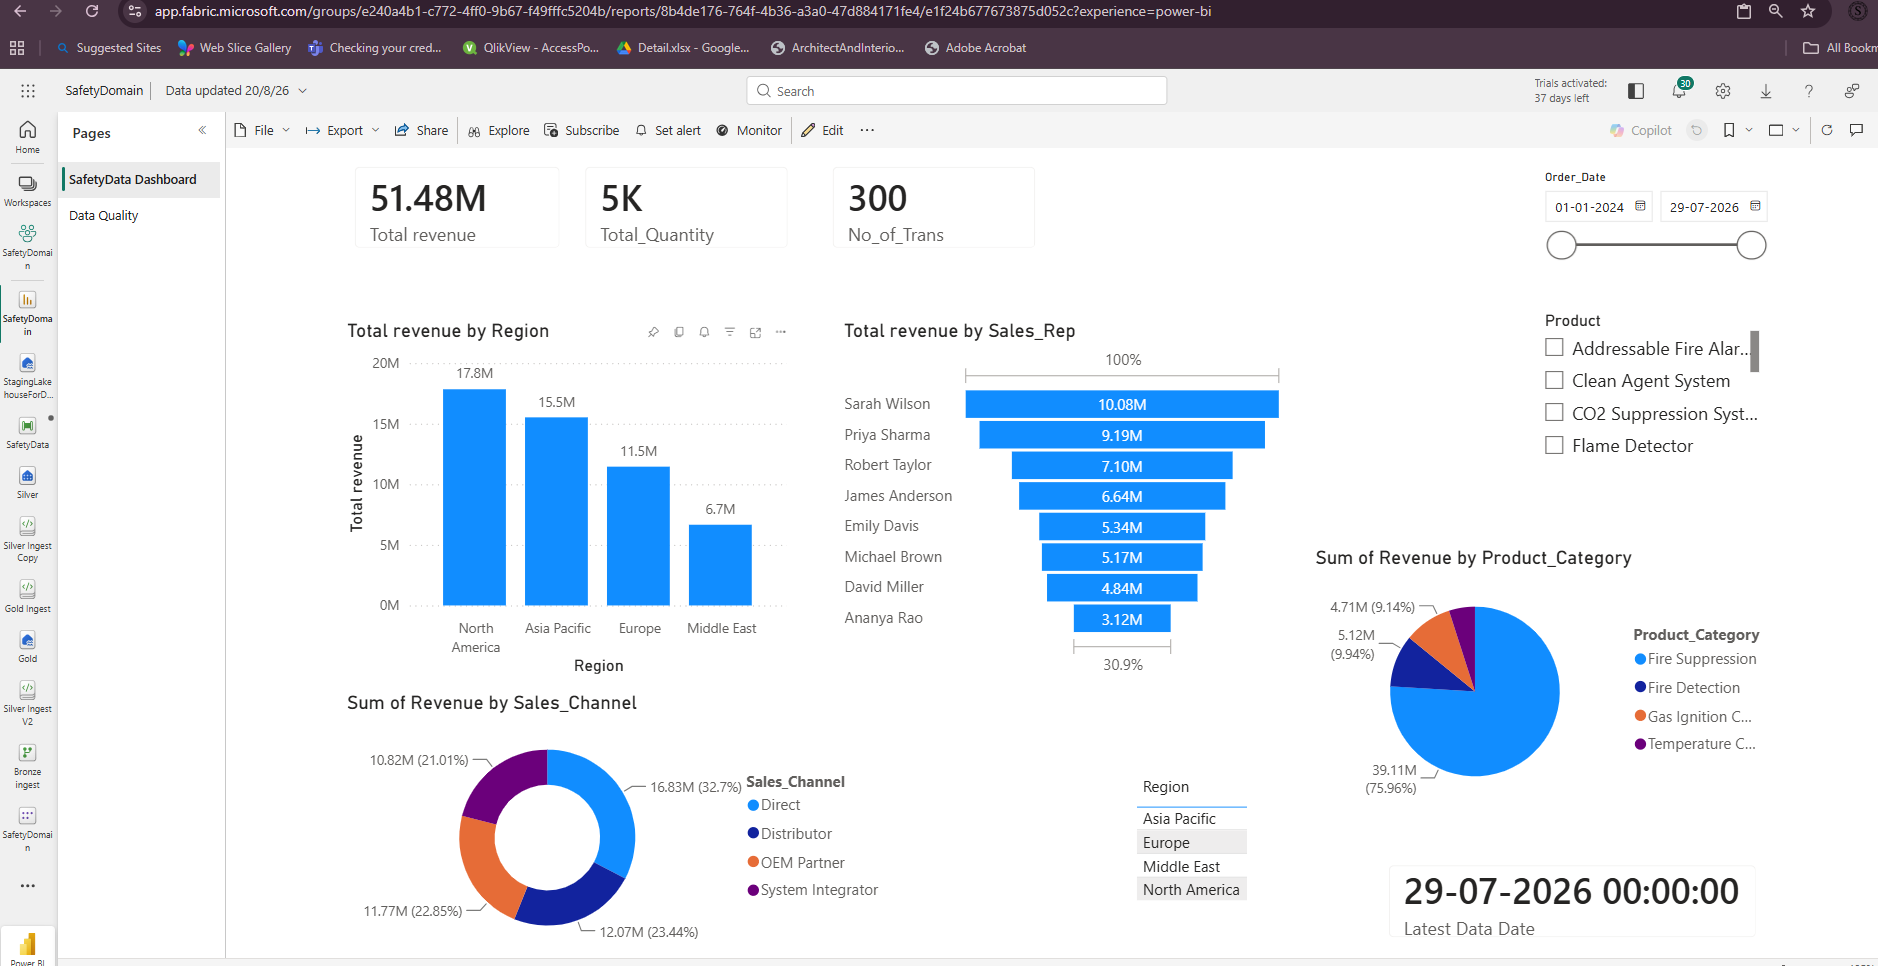

The page's visual inventory and layout, read from the dashboard file:
{"tool":"powerbi","page":{"name":"SafetyData Dashboard","canvas":[1280,720],"ordinal":0},"visuals":[{"type":"cardVisual","fields":{"Data":["SafetyData.Total revenue"]},"box":[0,0,216.7,106.6],"z":0},{"type":"slicer","fields":{"Values":["SafetyData.Product"]},"box":[1061,139.3,208.1,149.6],"z":1000},{"type":"cardVisual","fields":{"Data":["SafetyData.Total_Quantity"]},"box":[204.6,0,215,106.6],"z":2000},{"type":"cardVisual","fields":{"Data":["SafetyData.No_of_Trans"]},"box":[424.8,0,215,106.6],"z":3000},{"type":"columnChart","fields":{"Category":["Dim_Region.Region"],"Y":["SafetyData.Total revenue"]},"box":[5.2,153.1,400.7,319.9],"z":4000},{"type":"pieChart","fields":{"Category":["SafetyData.Product_Category"],"Y":["Sum(SafetyData.Revenue)"]},"box":[865,354.3,414.4,237.3],"z":5000},{"type":"donutChart","fields":{"Category":["SafetyData.Sales_Channel"],"Y":["Sum(SafetyData.Revenue)"]},"box":[5.2,483.2,491.8,237.3],"z":6000},{"type":"funnel","fields":{"Y":["SafetyData.Total revenue"],"Category":["SafetyData.Sales_Rep"]},"box":[446.5,153,401,320],"z":7000},{"type":"slicer","fields":{"Values":["SafetyData.Order_Date"]},"box":[1061,13.8,218.4,92.9],"z":8000},{"type":"cardVisual","fields":{"Data":["SafetyData.Latest Data Date"]},"box":[919.1,620.9,360.4,98.3],"z":9000},{"type":"tableEx","fields":{"Values":["Dim_Region.Region"]},"box":[706.1,552.1,142.5,137.6],"z":9001}]}

Visuals, with their boxes on the page's 1280x720 design canvas (x1, y1, x2, y2). These are canvas units, not pixel positions in the 1878x966 screenshot, which may show the page scaled, cropped or inside an application window:
cardVisual - SafetyData.Total revenue: <box>0,0,217,107</box>
slicer - SafetyData.Product: <box>1061,139,1269,289</box>
cardVisual - SafetyData.Total_Quantity: <box>205,0,420,107</box>
cardVisual - SafetyData.No_of_Trans: <box>425,0,640,107</box>
columnChart - Dim_Region.Region x SafetyData.Total revenue: <box>5,153,406,473</box>
pieChart - SafetyData.Product_Category x Sum(SafetyData.Revenue): <box>865,354,1279,592</box>
donutChart - SafetyData.Sales_Channel x Sum(SafetyData.Revenue): <box>5,483,497,720</box>
funnel - SafetyData.Total revenue x SafetyData.Sales_Rep: <box>446,153,848,473</box>
slicer - SafetyData.Order_Date: <box>1061,14,1279,107</box>
cardVisual - SafetyData.Latest Data Date: <box>919,621,1280,719</box>
tableEx - Dim_Region.Region: <box>706,552,849,690</box>
